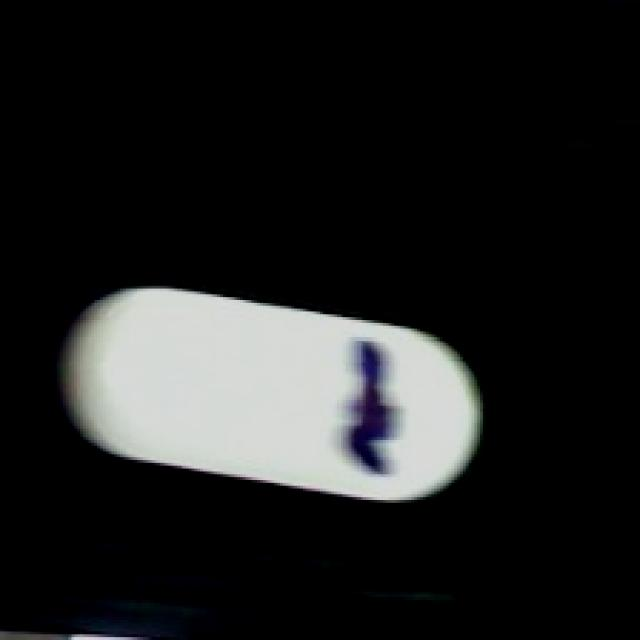defected: (43, 284, 488, 506)
